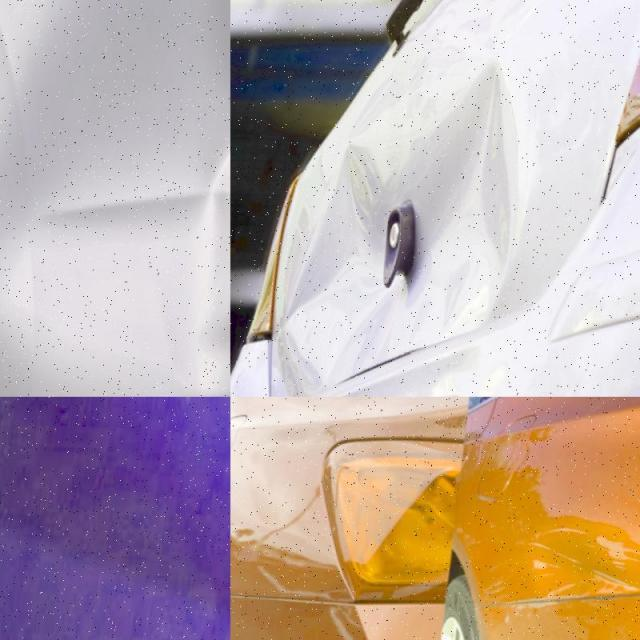car damage: (396, 51, 544, 354), (277, 145, 403, 381), (526, 530, 640, 599)
